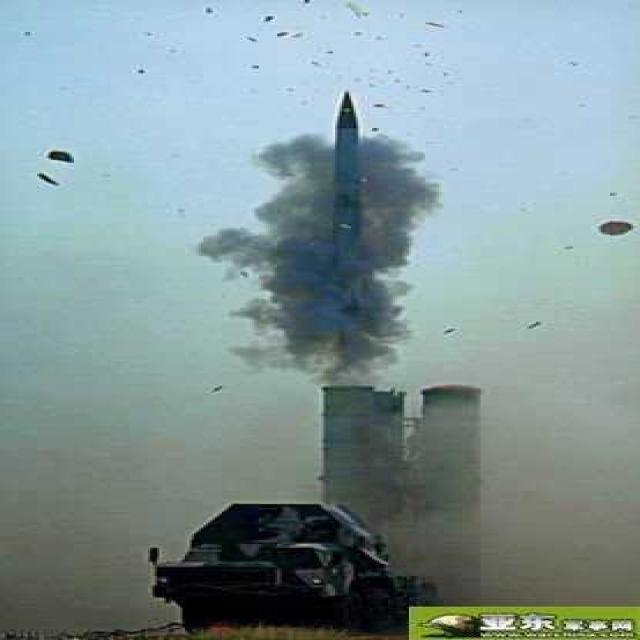missile: (305, 86, 411, 271)
